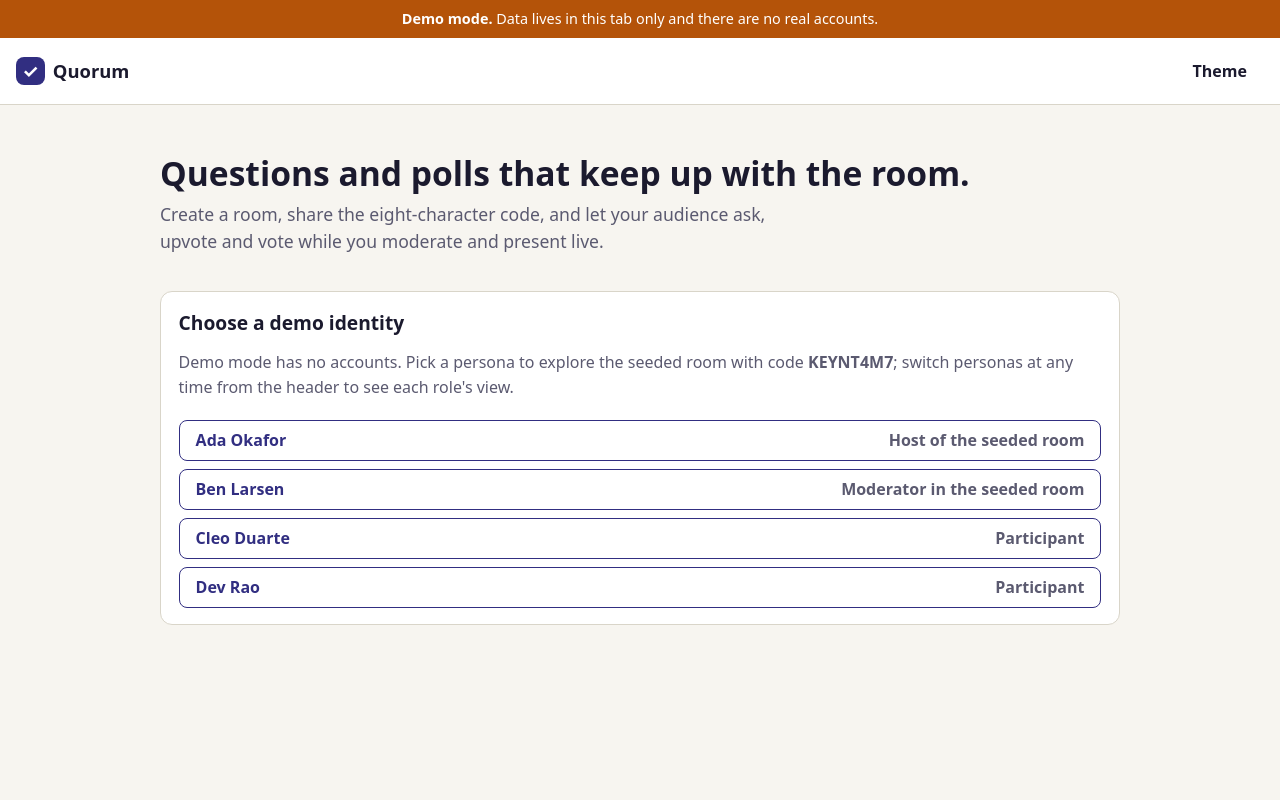
Test: joining and hosting › reports an unknown code and joins with the seeded one
This screenshot has width=1280, height=800.
Click the button "Dev Rao Participant". click: click(228, 587)
box: top-left (179, 567), bottom-right (1101, 608)
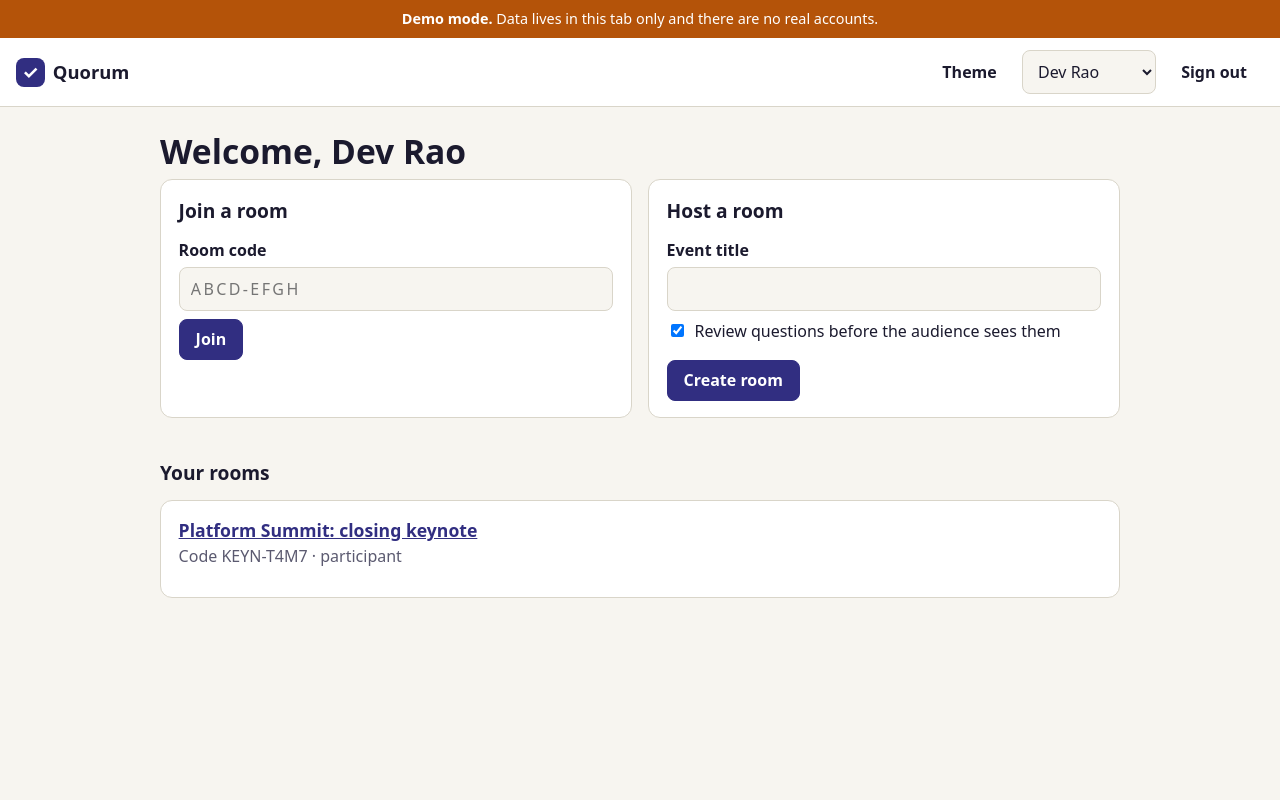
Type "ZZZZ-ZZZZ" into the field labelled "Room code". click: (396, 289)
box: top-left (179, 267), bottom-right (613, 311)
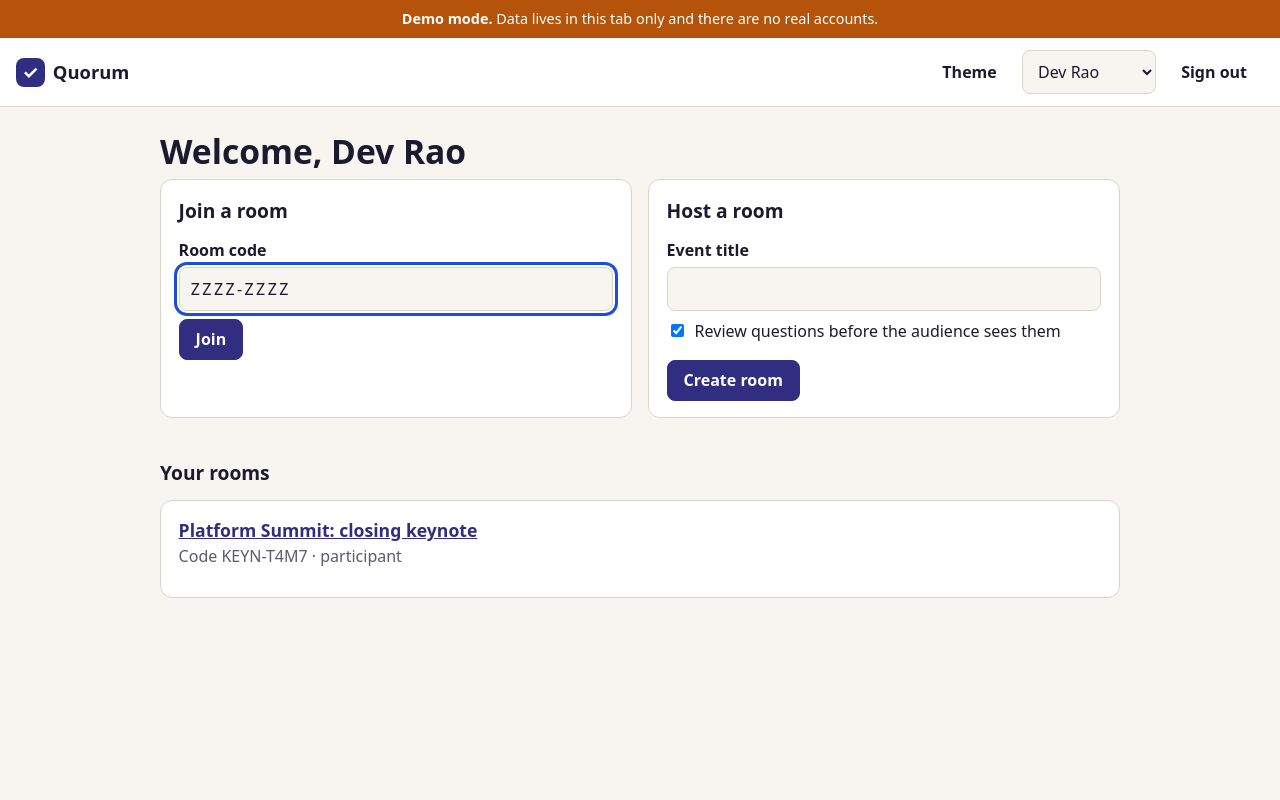
Click the button "Join". click: click(211, 340)
box: top-left (179, 319), bottom-right (243, 360)
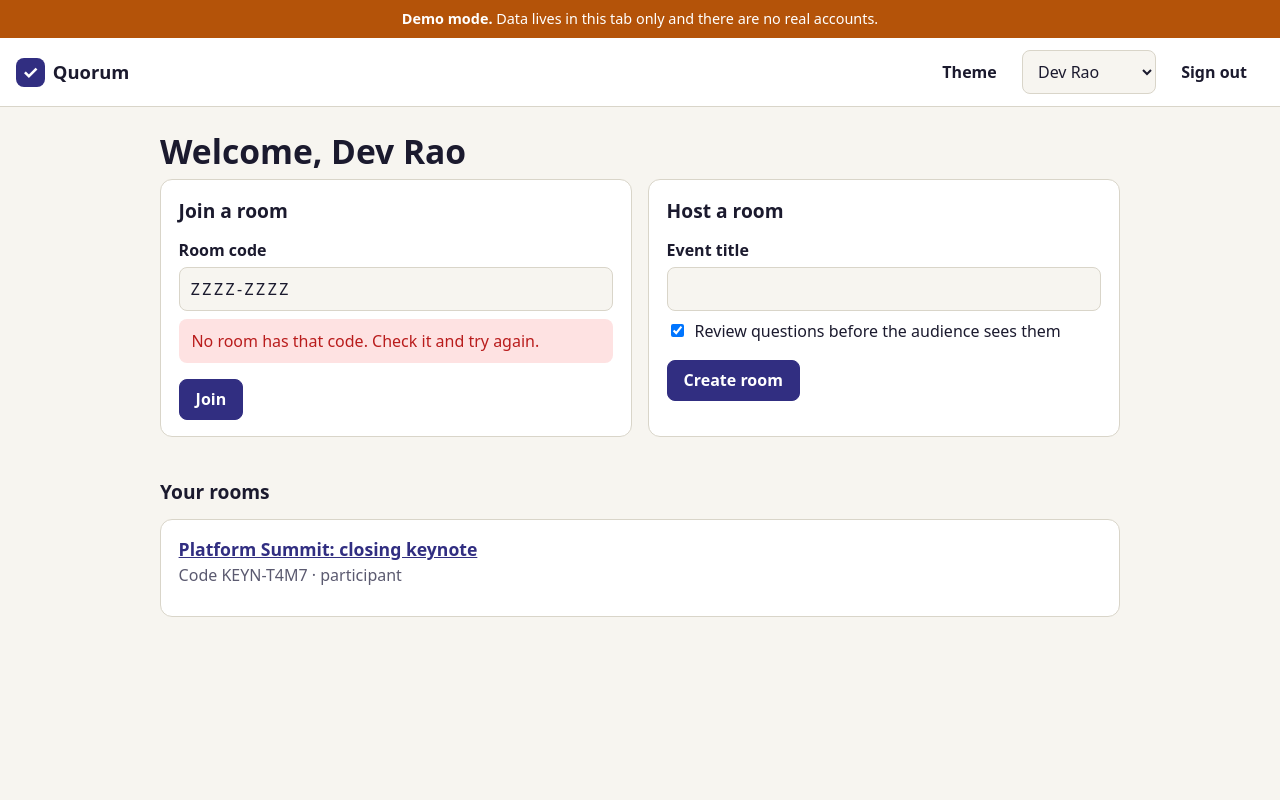
Check: the message shows "No room has that code", box top-left (191, 330), bottom-right (539, 352)
Replace the text in the field labelled "Room code" with "keyn-t4m7". click: (396, 289)
box: top-left (179, 267), bottom-right (613, 311)
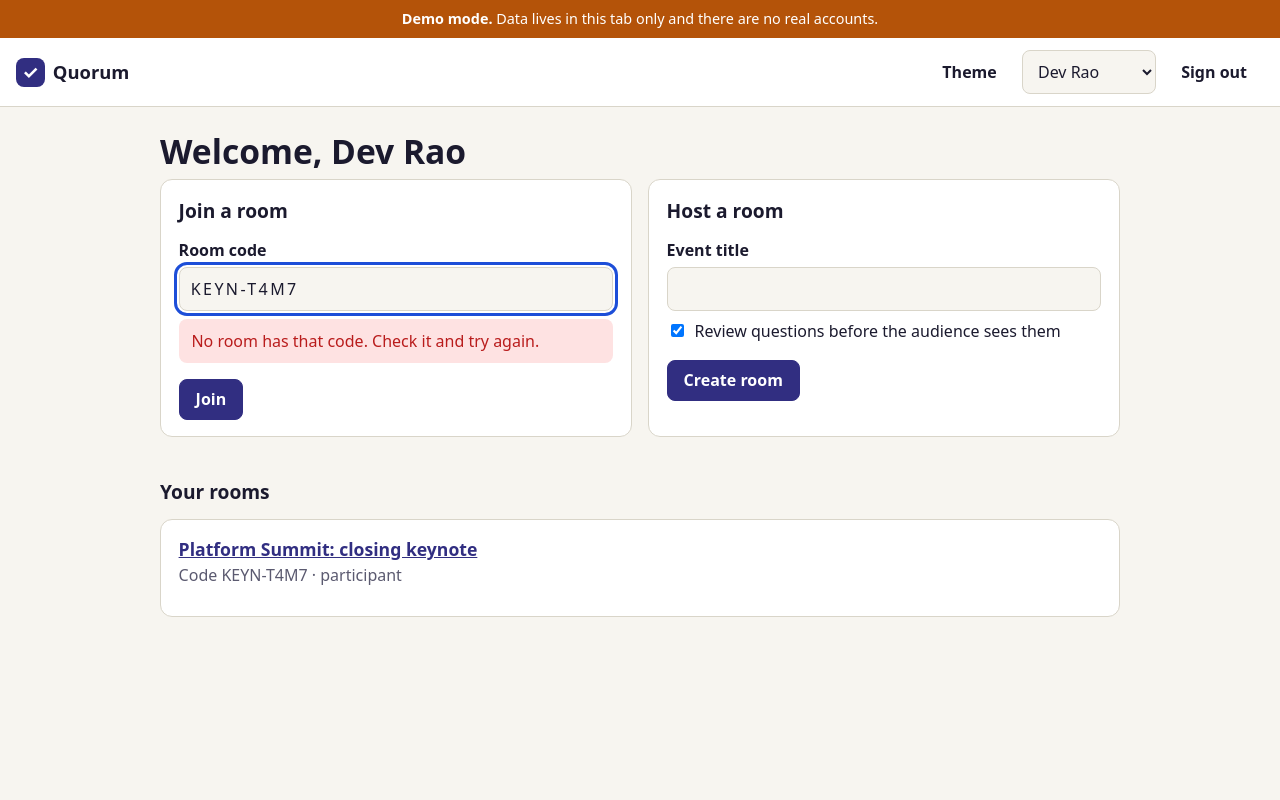
Click the button "Join". click: click(211, 400)
box: top-left (179, 379), bottom-right (243, 420)
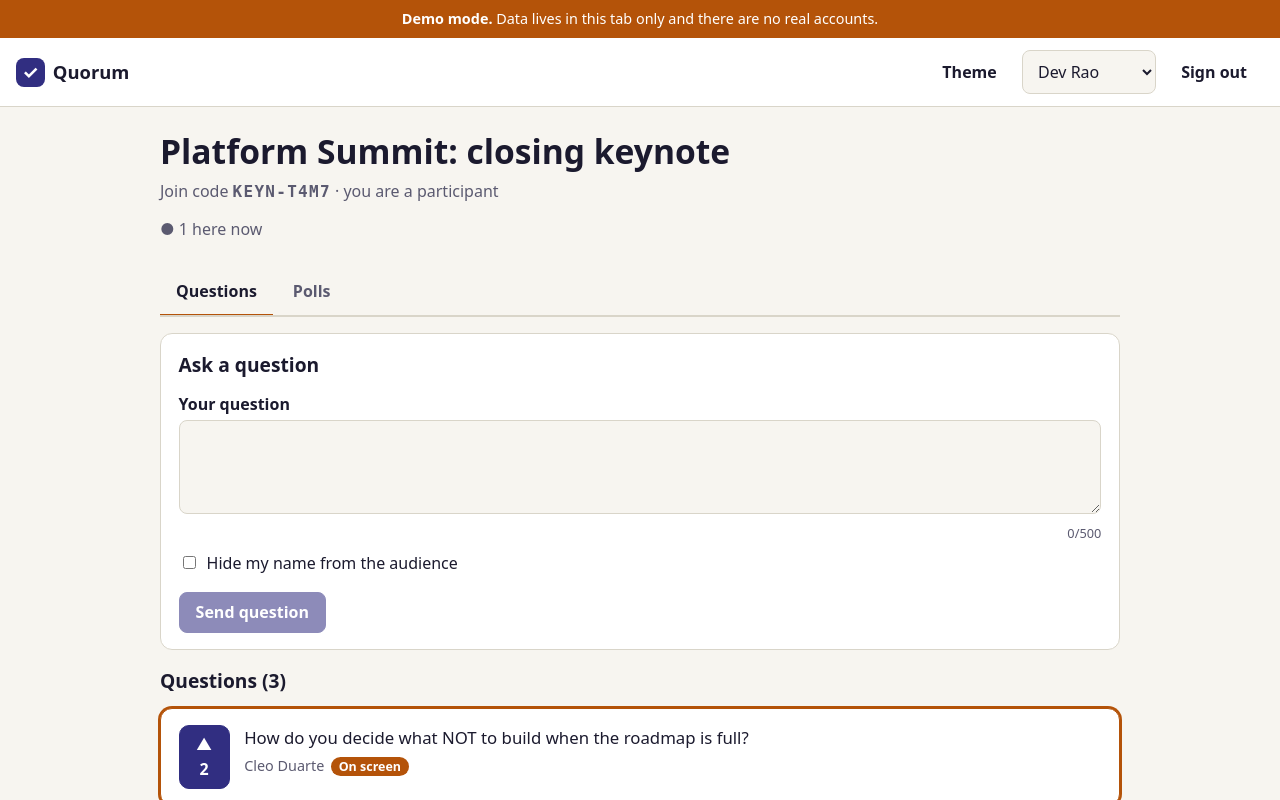
Check: the heading "Platform Summit: closing keynote" is shown, box top-left (160, 131), bottom-right (730, 171)
